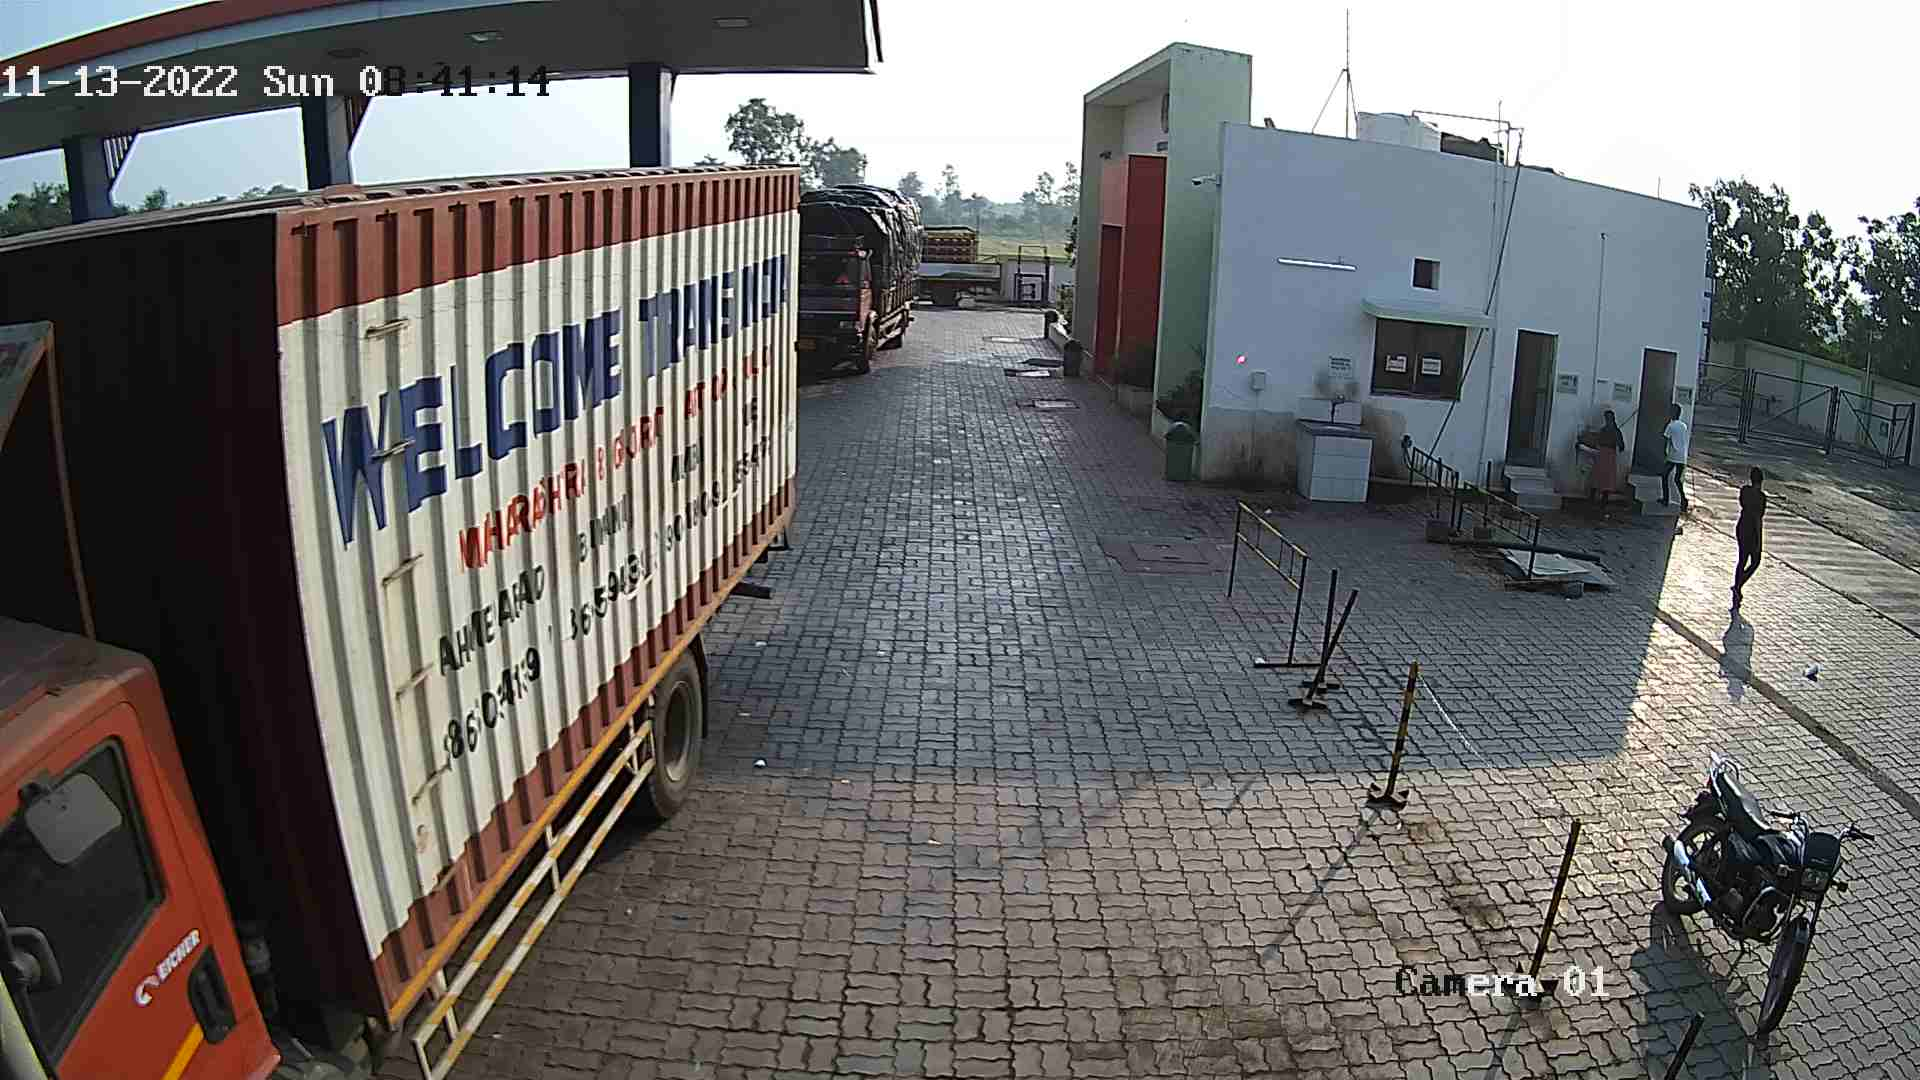Bike: (1640, 752, 1879, 1043)
HMV: (0, 146, 816, 1077), (793, 171, 927, 380), (905, 212, 1014, 314)
